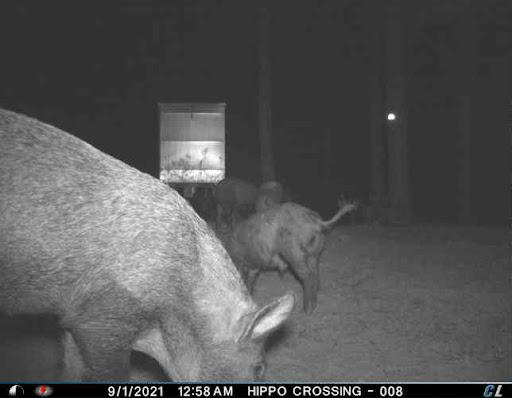Hog: (0, 97, 303, 385), (226, 191, 365, 314), (207, 176, 268, 224), (256, 175, 289, 215)
